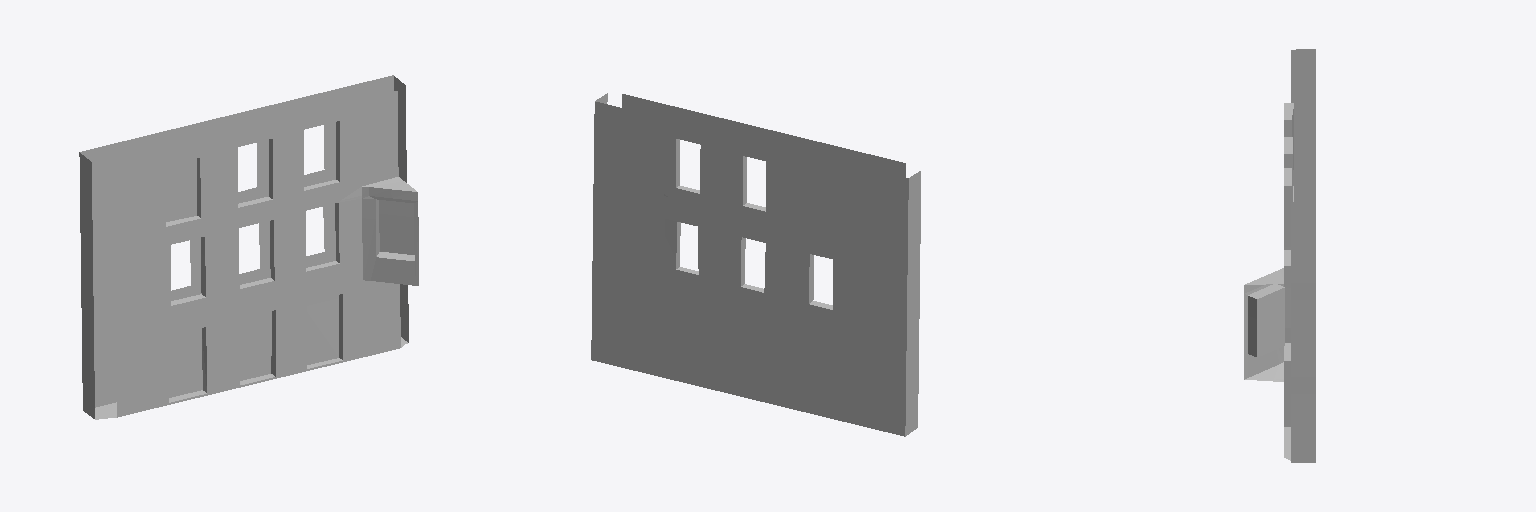
File: SM_HOTEL_mur_C.obj
3 renders of one model, left to right at view 1: azimuth 30°, elevation 25°; view 2: azimuth 150°, elevation 25°; view 3: azimuth 270°, elevation 25°, orthographic.
Parts seen in each view (by area): view 1: SM_HOTEL_mur_C:SM_HOTEL_murs_geo; view 2: SM_HOTEL_mur_C:SM_HOTEL_murs_geo; view 3: SM_HOTEL_mur_C:SM_HOTEL_murs_geo.
Part boxes in pixels (bbox=[...]): SM_HOTEL_mur_C:SM_HOTEL_murs_geo: bbox=[79, 75, 418, 419]; SM_HOTEL_mur_C:SM_HOTEL_murs_geo: bbox=[591, 93, 920, 436]; SM_HOTEL_mur_C:SM_HOTEL_murs_geo: bbox=[1244, 49, 1315, 462].
Size of the model in its own units: 1524 by 1190 by 297.